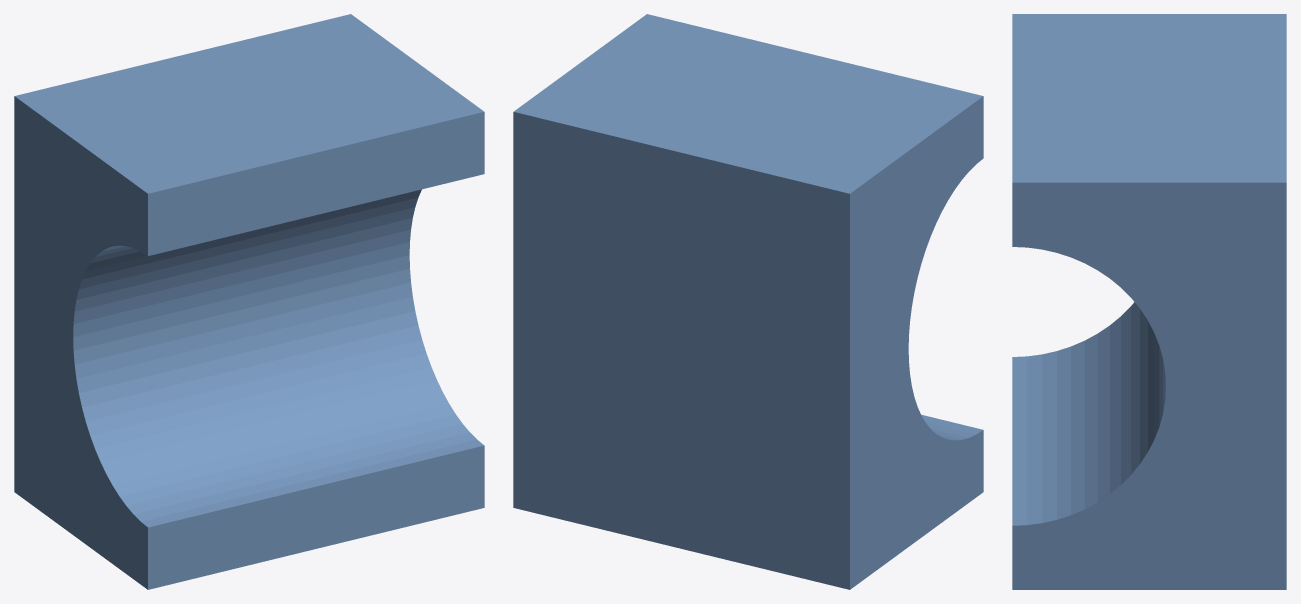
The model's file is T-VBLOCK.glb.
The picture shows the model from 3 angles, left to right: view 1: azimuth 30°, elevation 25°; view 2: azimuth 150°, elevation 25°; view 3: azimuth 270°, elevation 25°; orthographic projection. The views are drawn at different scales.
Visible parts, largest first — view 1: geometry_0; view 2: geometry_0; view 3: geometry_0.
Boxes of the visible parts, x1,y1,x2,y2 form: geometry_0: (14,14,484,589); geometry_0: (513,14,983,589); geometry_0: (1012,14,1286,589).
Bounding box in the file's own units: 160 × 180 × 110.
